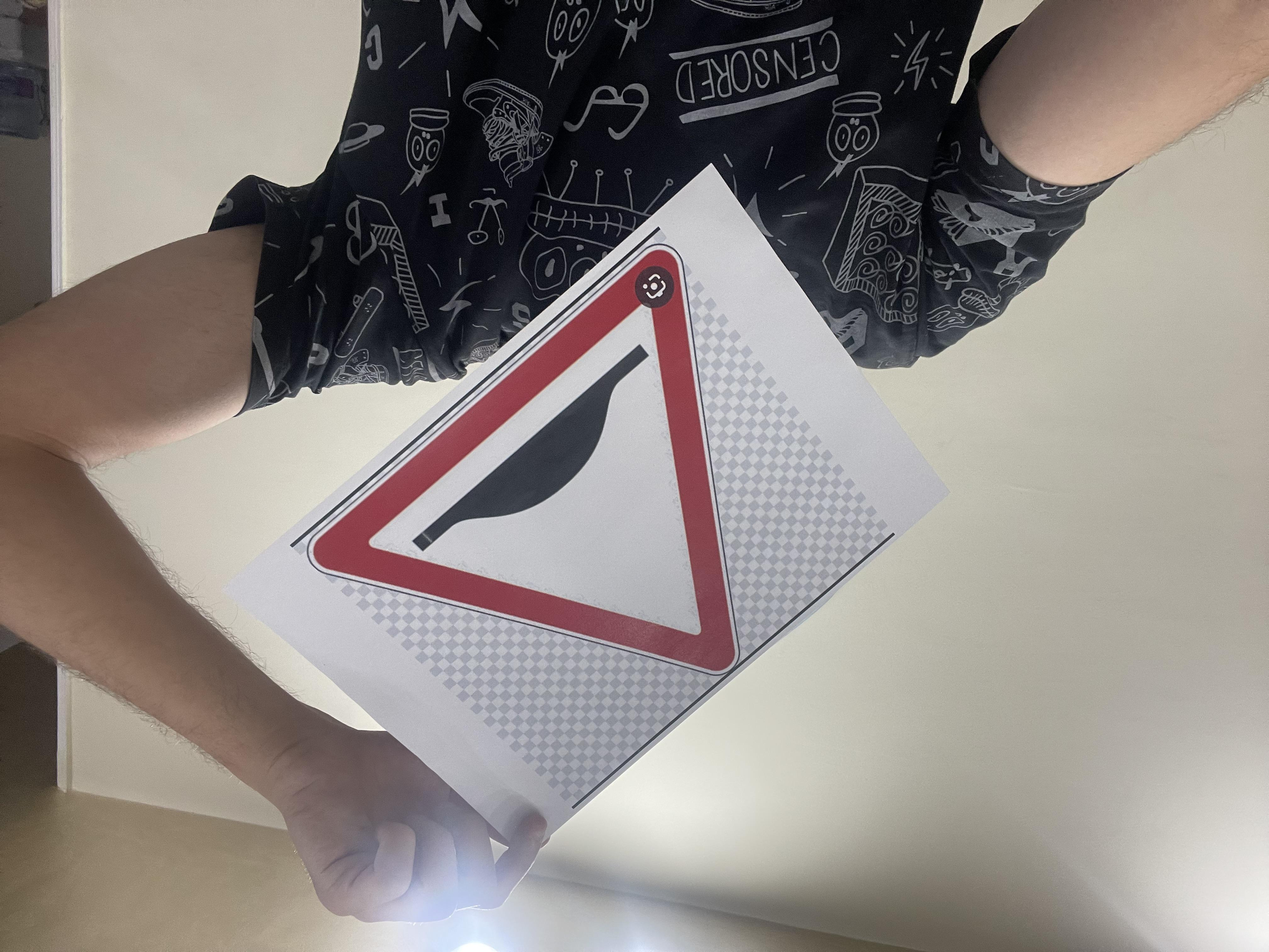Hump: (532, 276, 967, 701)
